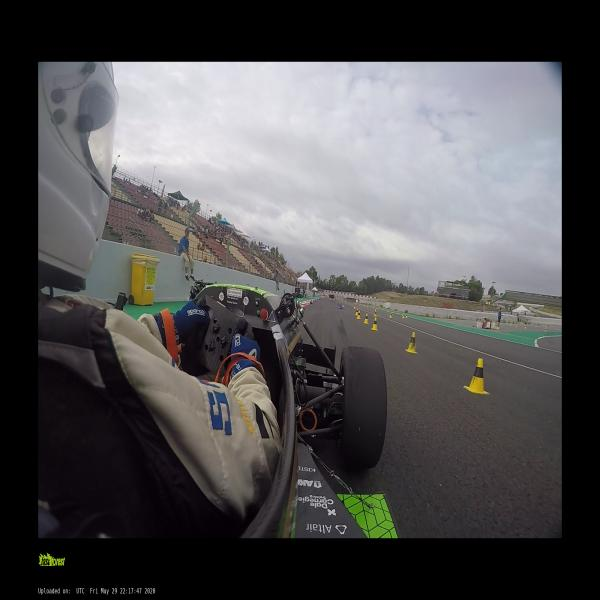orange_cone: (353, 306, 356, 311), (304, 300, 306, 307)
yellow_cone: (463, 358, 489, 394), (405, 331, 418, 355), (371, 318, 377, 331), (364, 314, 368, 324), (357, 311, 361, 319), (355, 308, 359, 316), (389, 313, 392, 318), (374, 311, 376, 317), (402, 314, 404, 319), (406, 314, 408, 318), (402, 313, 404, 317)
